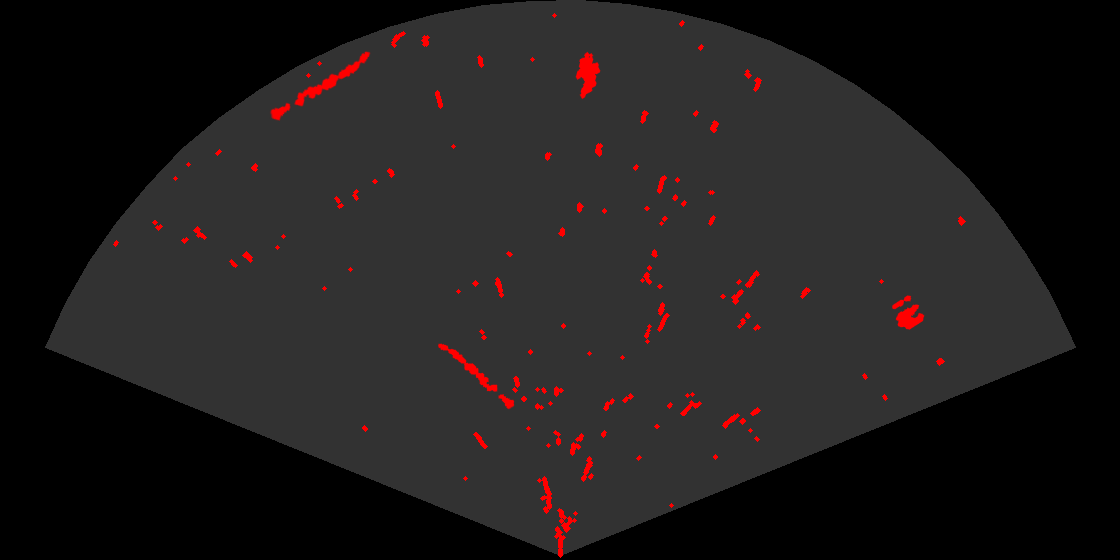AUV: (574, 50, 602, 101)
ball: (890, 294, 926, 331)
chain: (268, 50, 372, 122), (436, 342, 516, 411)
